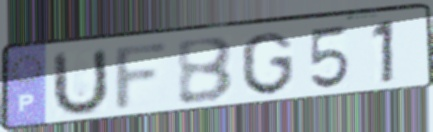1: (369, 17, 398, 88)
5: (308, 24, 353, 91)
B: (174, 34, 236, 107)
F: (111, 39, 174, 116)
G: (239, 30, 298, 97)
U: (49, 46, 112, 120)
